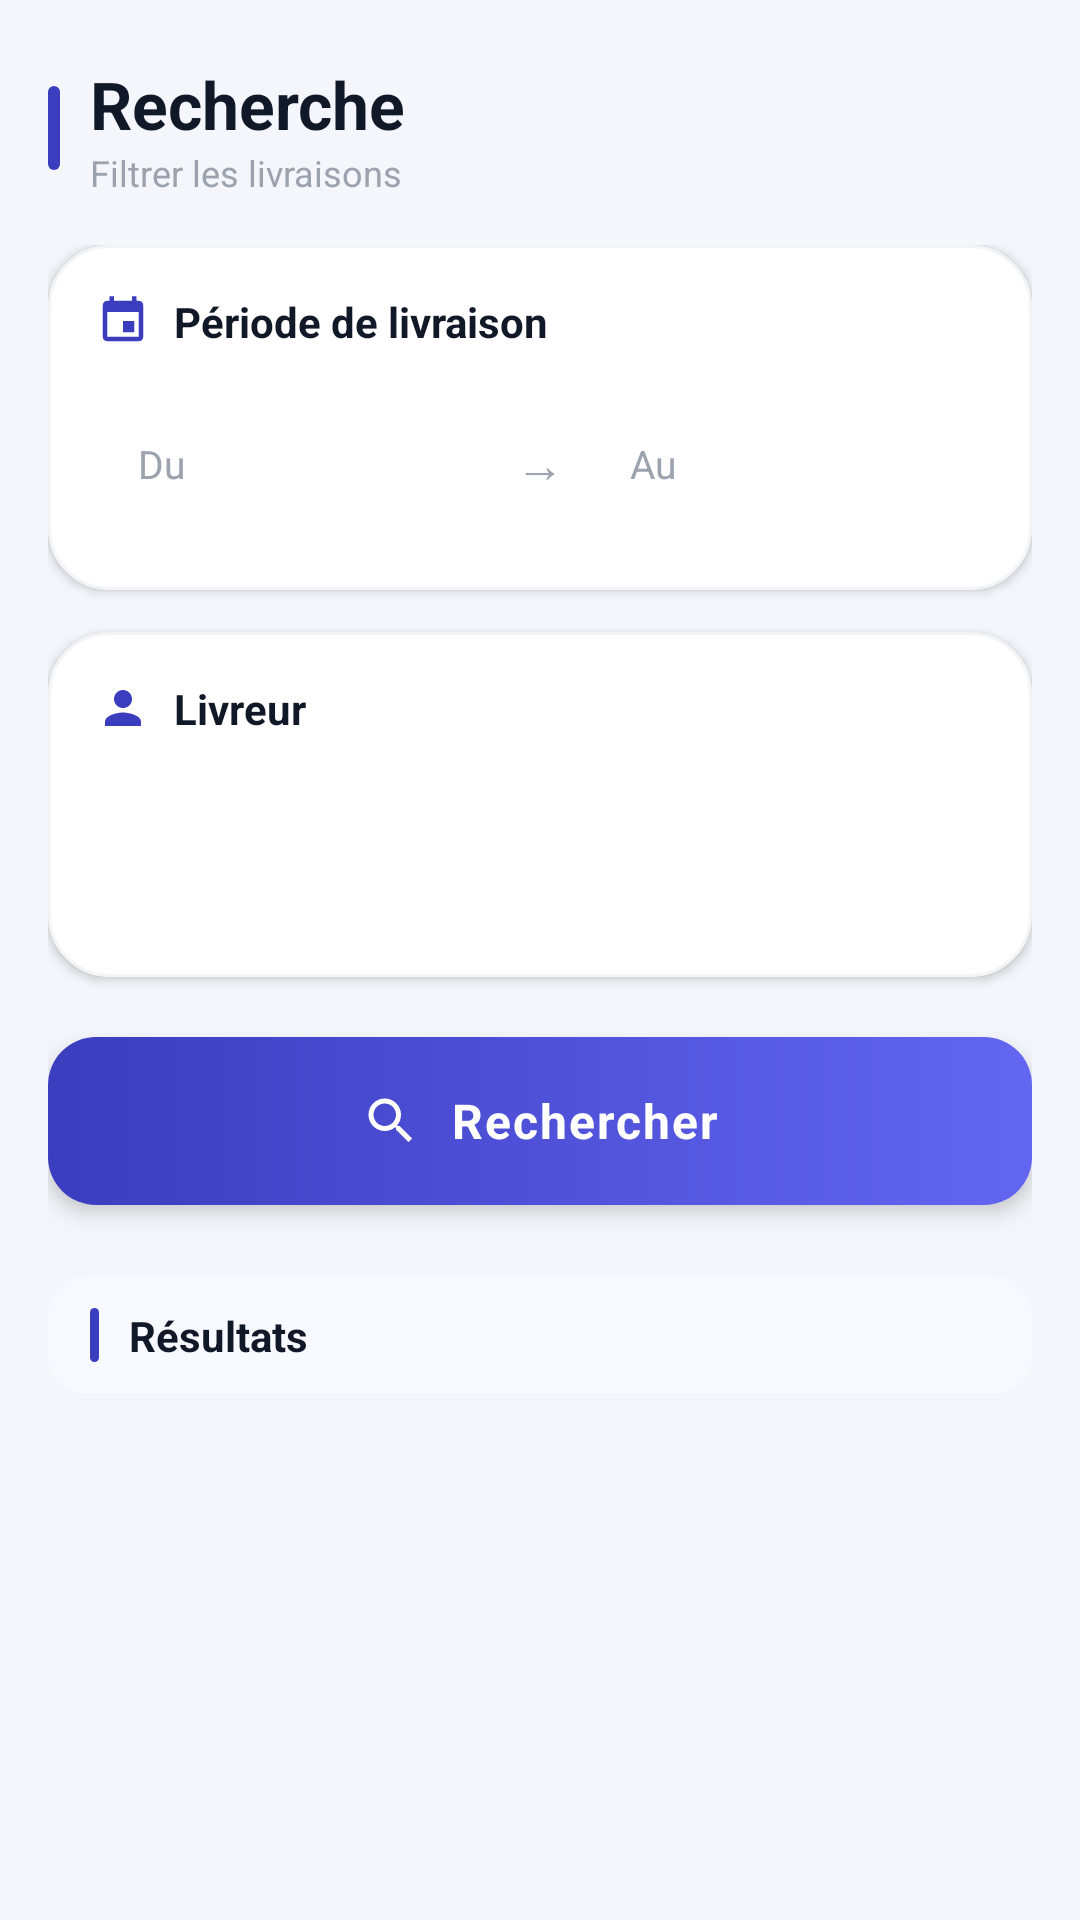

Icon click points for this 1080px x 1920px phone screenshot, format [x,y]:
Date: [123,319]
